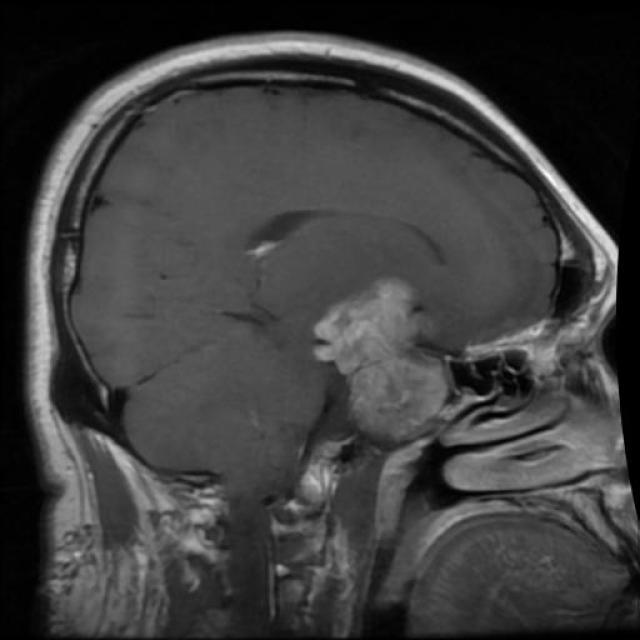pituitary: (300, 270, 454, 448)
